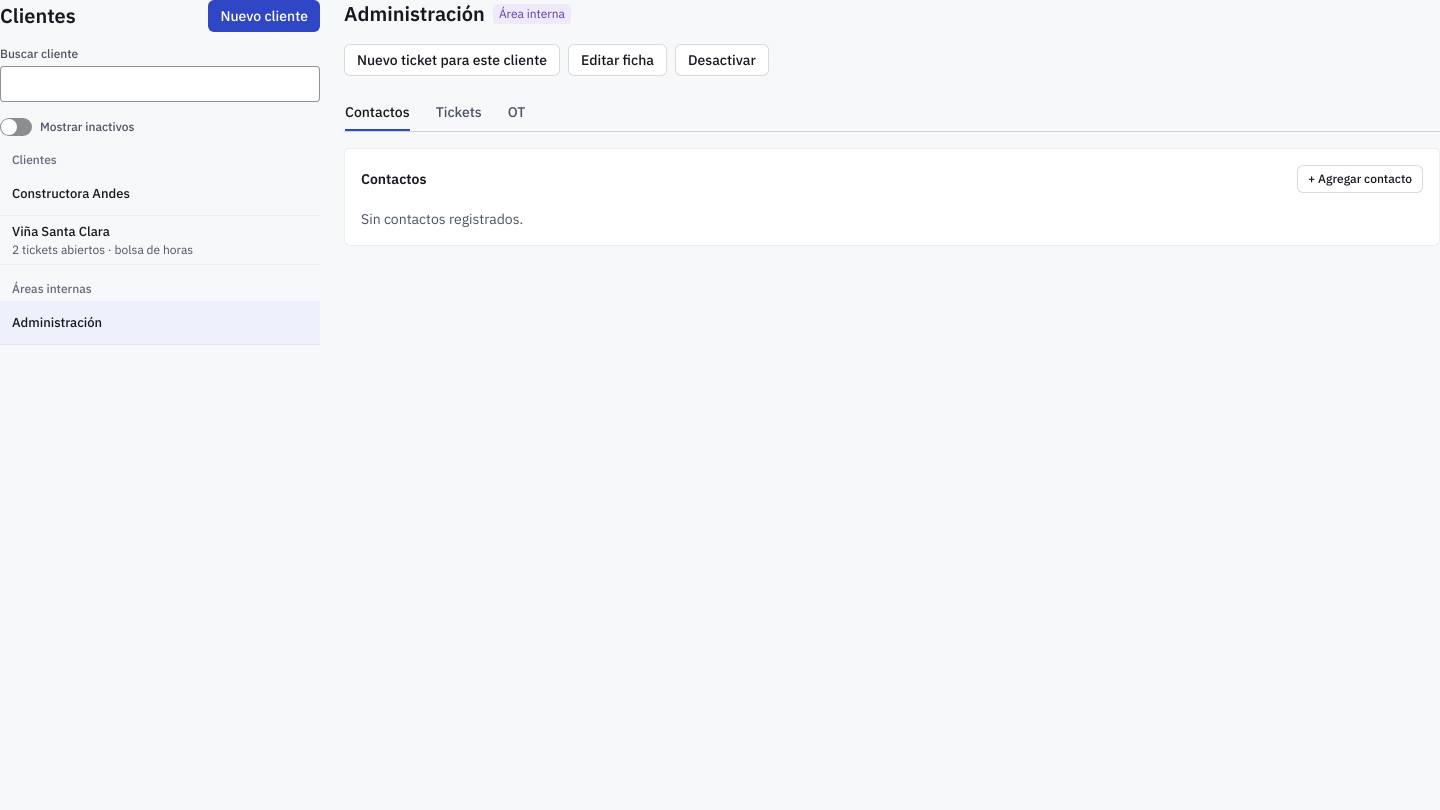
Test: en el diálogo, un área interna oculta RUT, dirección, condición de pago y notas
Expected: the heading "Administración" is shown, [344,0,485,28]
Click the button "Editar ficha" at (618, 60), box [568,44,667,76]
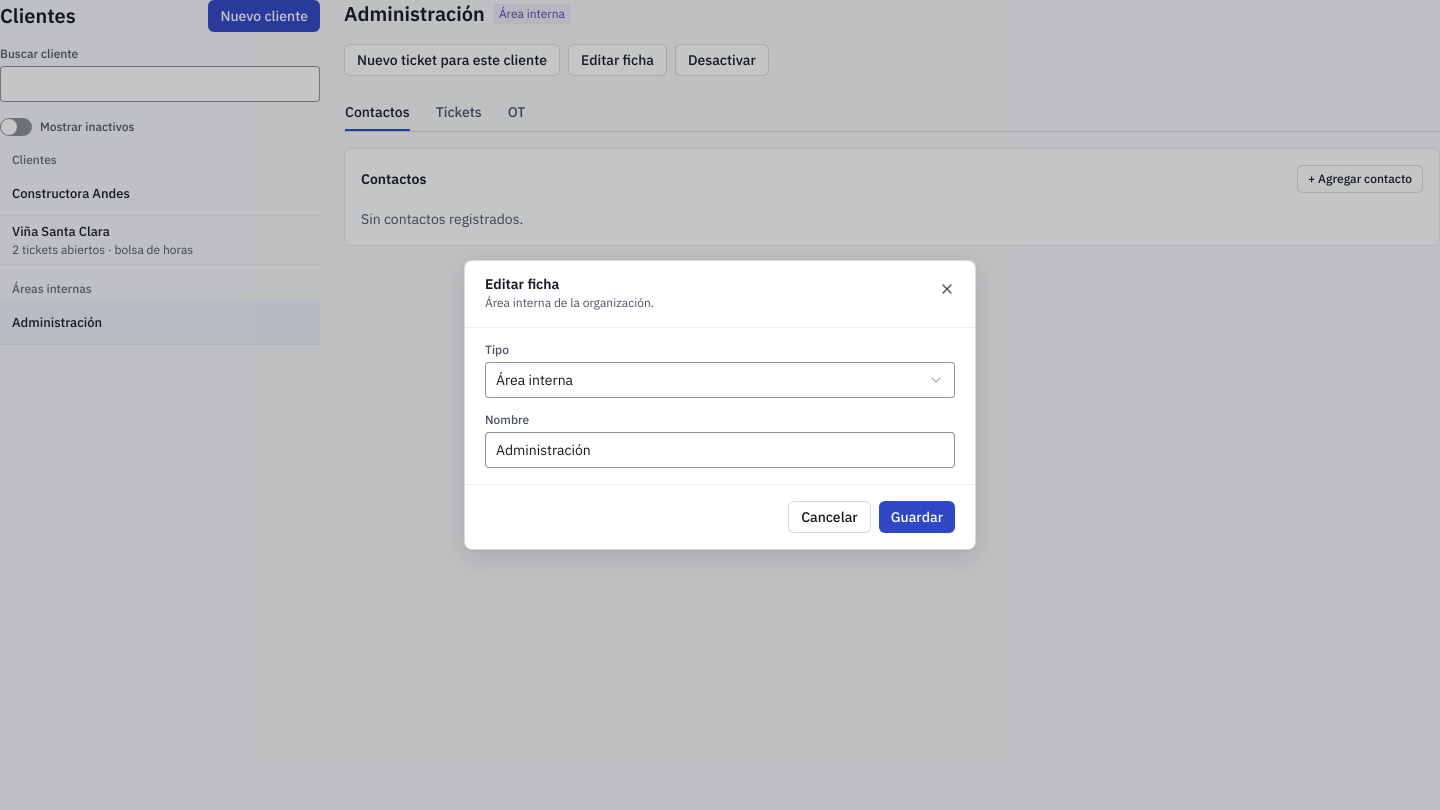
Now the field labelled "Nombre" is shown, box [485,432,955,468]
